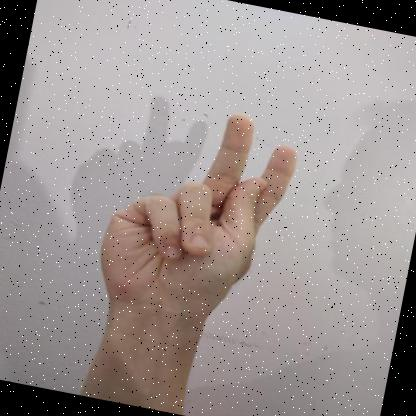K: (100, 114, 296, 338)
